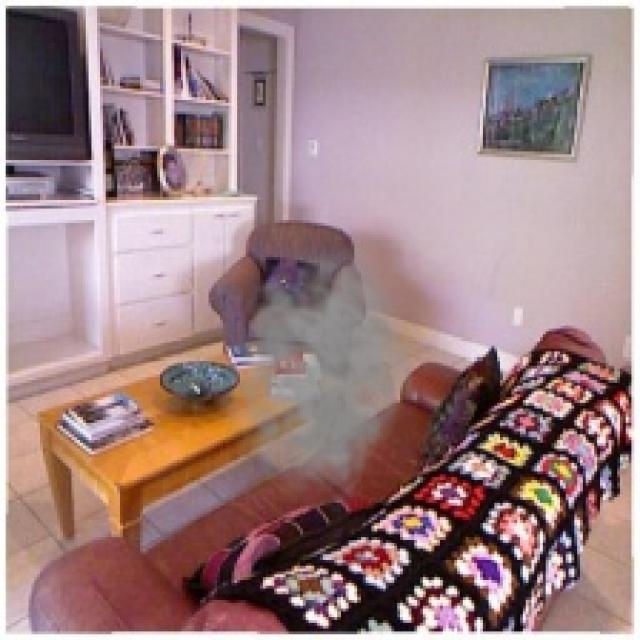Smoke: (214, 243, 414, 512)
